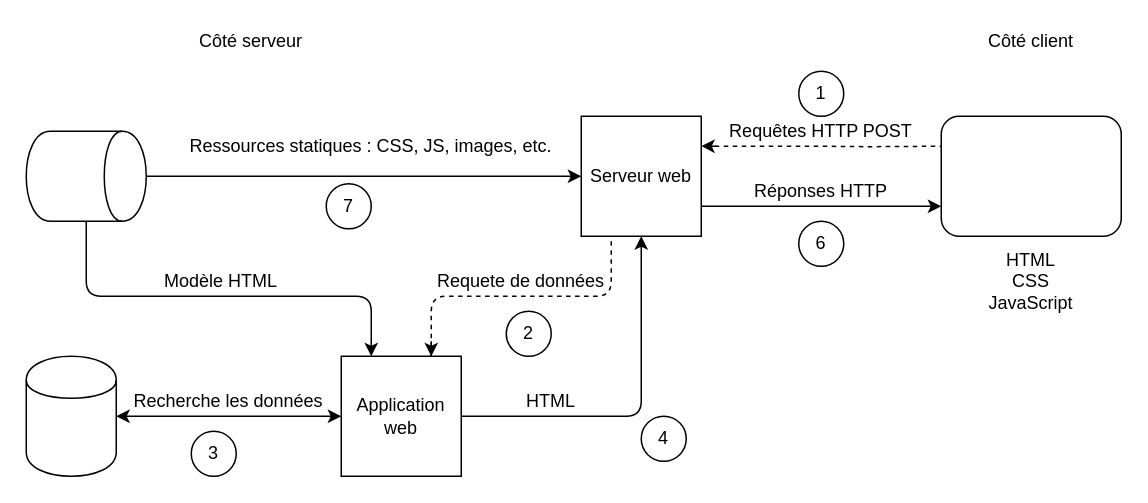
Some shapes in this 1148 by 503 pixel diagram are drawn without their labels. The shapes that lost their labels are listed below. From the top down, each one's centre as x and y in pixels, then its label:
At point 85,175: "Fichiers".
At point 1030,175: "Navigateur".
At point 70,415: "BDD".
